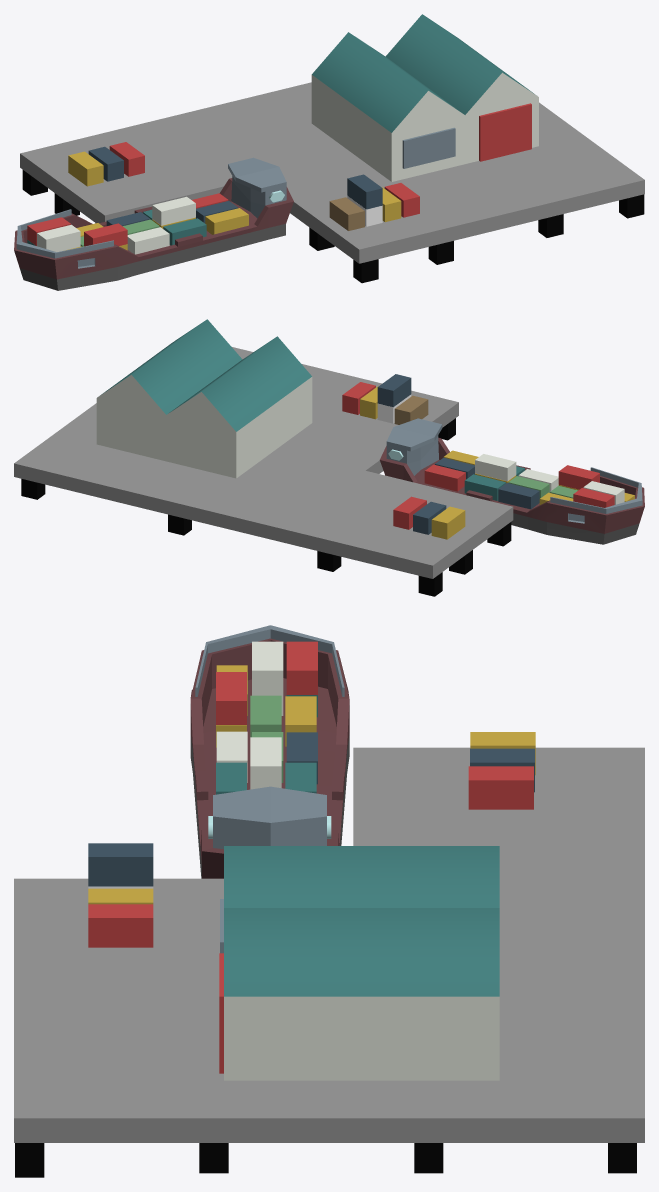
The model's file is Harbour_Updated With Boat.fbx.
3 renders of one model, top to bottom at view 1: azimuth 30°, elevation 25°; view 2: azimuth 150°, elevation 25°; view 3: azimuth 270°, elevation 25°, orthographic. The views are drawn at different scales.
Parts seen in each view (by area): view 1: polySurface1, pCube25; view 2: polySurface1, pCube25; view 3: polySurface1, pCube25.
Part boxes in pixels (x1,y1,x2,y2): polySurface1: (20, 14, 644, 283); pCube25: (14, 157, 293, 290); polySurface1: (14, 319, 513, 596); pCube25: (380, 418, 644, 544); polySurface1: (14, 732, 644, 1177); pCube25: (190, 625, 349, 878).
Size of the model in its own units: 15.06 by 3.03 by 8.6.
2 materials, 2 textured.
